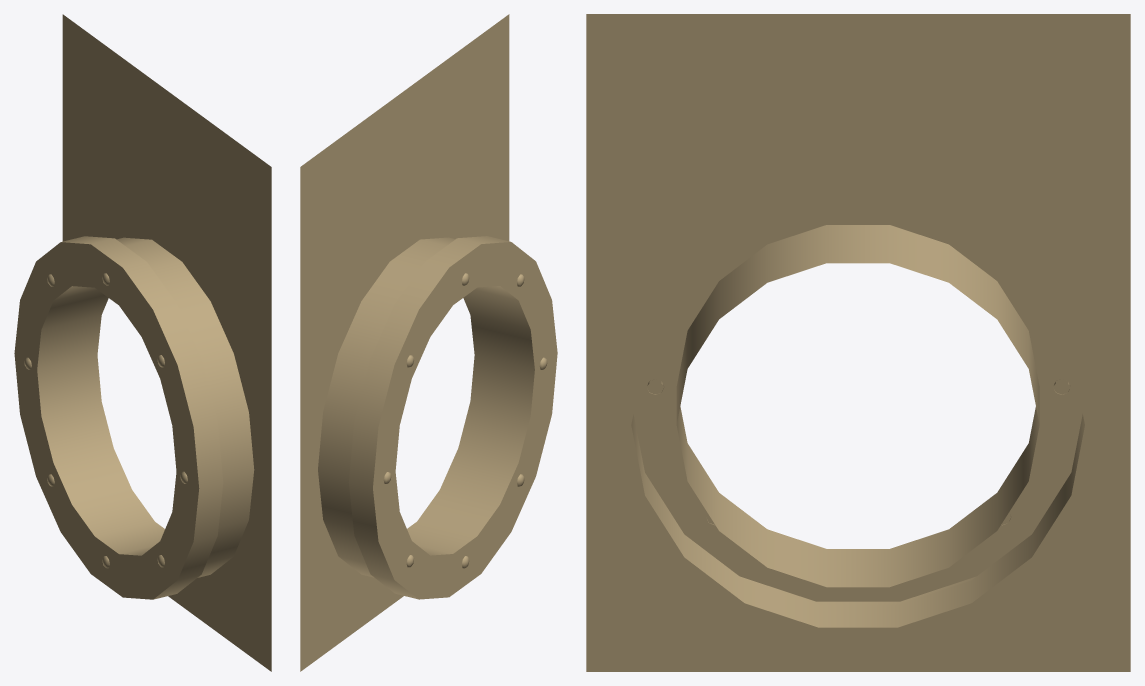
Rendered from Pipe_Large_Wall_3x4_Sewer_Environment.FBX.
The picture shows the model from 3 angles, left to right: view 1: azimuth 30°, elevation 25°; view 2: azimuth 150°, elevation 25°; view 3: azimuth 270°, elevation 25°; orthographic projection. The views are drawn at different scales.
Parts seen in each view (by area): view 1: Rohrende_Wand_3x4; view 2: Rohrende_Wand_3x4; view 3: Rohrende_Wand_3x4.
Part boxes in pixels (box(x1,y1,x2,y2)): Rohrende_Wand_3x4: box(14, 14, 271, 671); Rohrende_Wand_3x4: box(300, 14, 557, 671); Rohrende_Wand_3x4: box(586, 14, 1130, 671).
Size of the model in its own units: 52.36 by 400 by 300.
